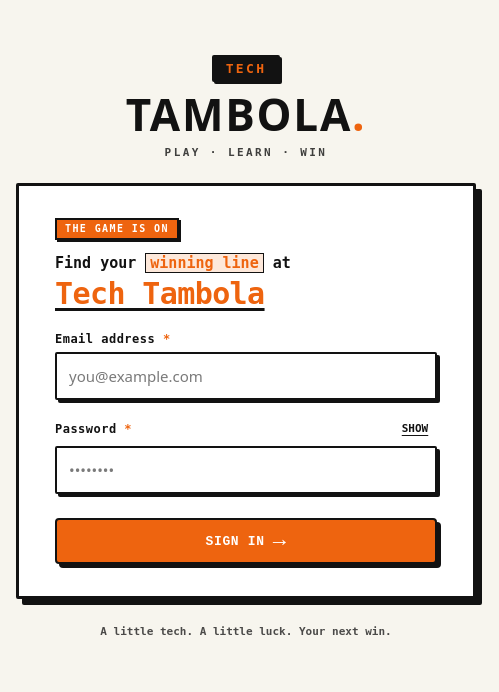
Test: LoginPage › disables duplicate submit and shows rate-limit feedback
In the field labelled "Email address *": (246, 376) [55,352,437,400], type "attendee@example.test"
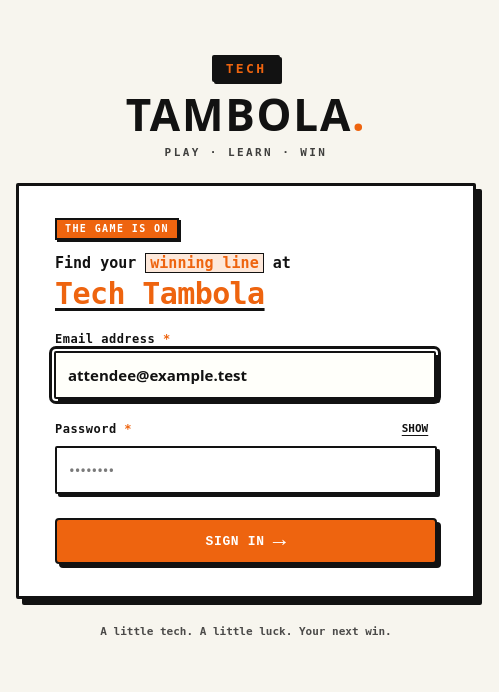
In the password field labelled "Password *": (246, 470) [55,446,437,494], type "correct horse battery"
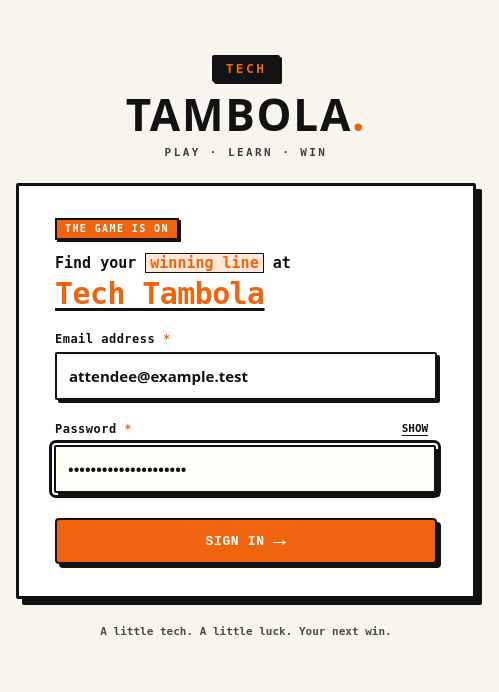
Click the button "Sign in →": (246, 541) [55,518,437,564]
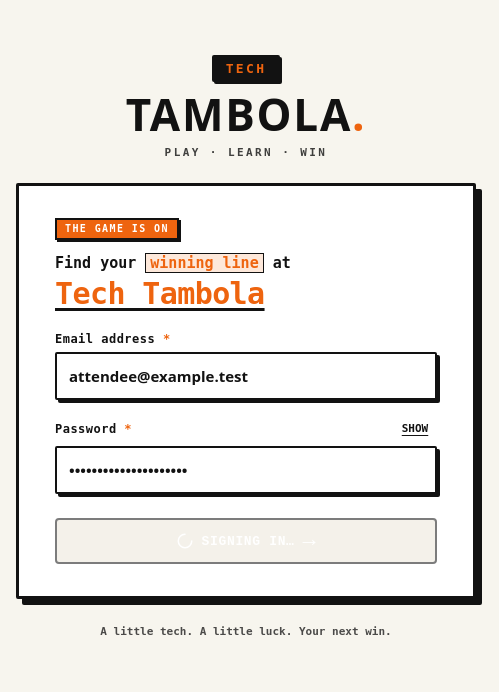
Expected: the button "Signing in… →" is disabled
Click the button "Signing in… →": (246, 541) [55,518,437,564]
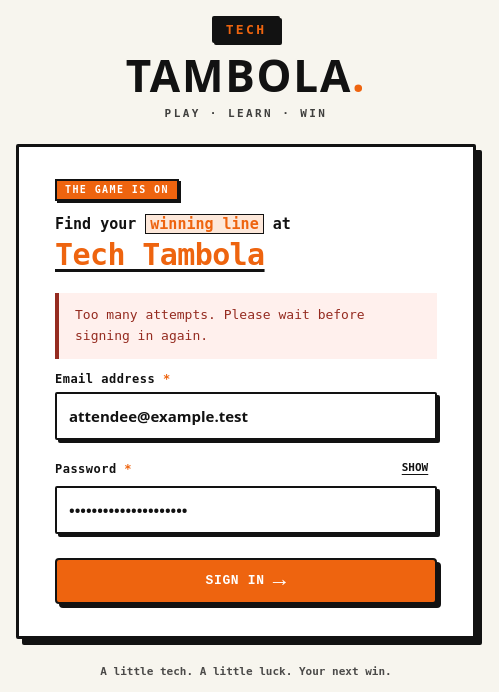
Expected: the message shows "Too many attempts", [75,307,365,343]
